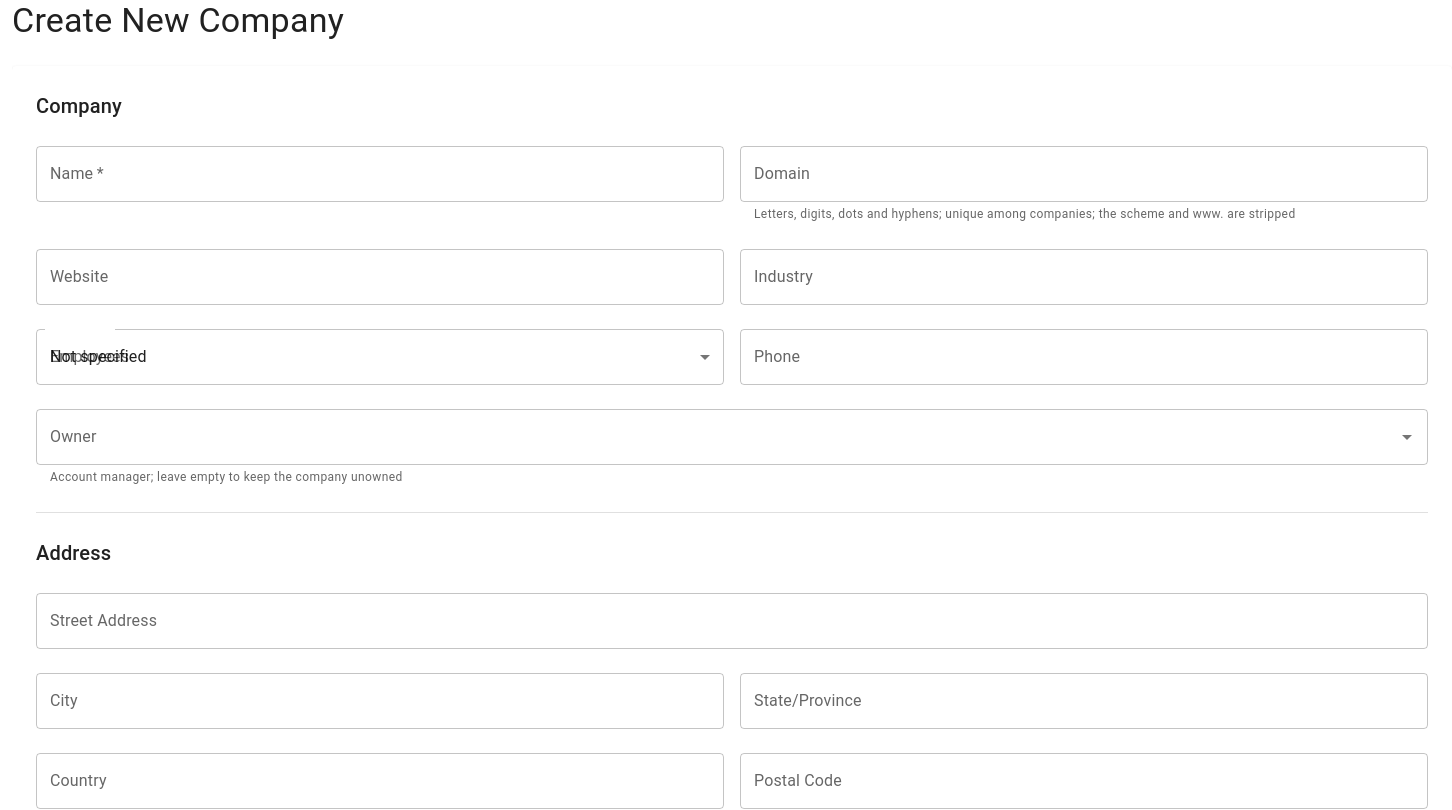
Test: CompanyForm › create mode › shows the server message on the domain field after a 409
Type "Acme Widgets" into the field labelled "Name *" at (380, 174), box [36,146,724,202]
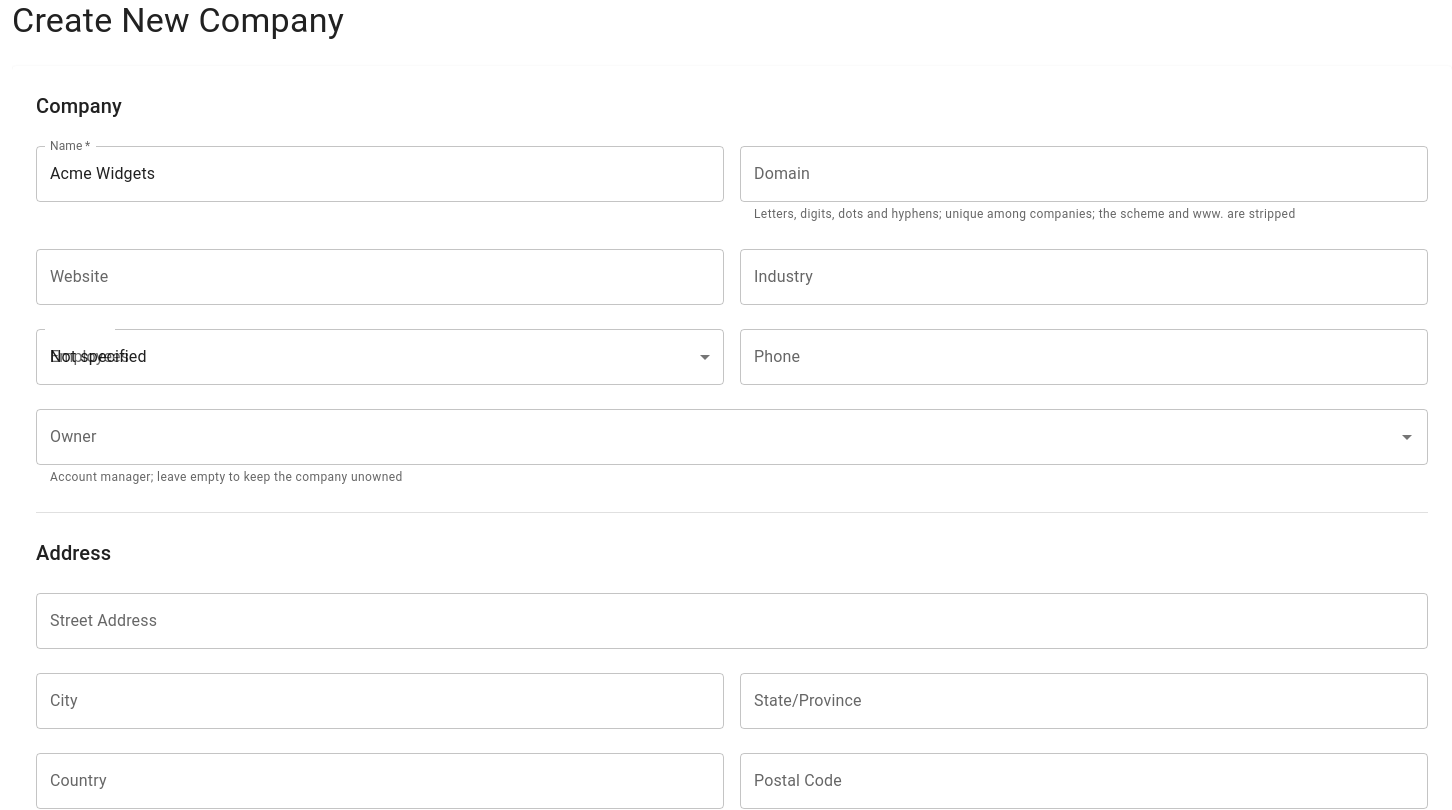
Type "acme.example" into the field labelled "Domain" at (1084, 174), box [740,146,1428,202]
(page scrolled)
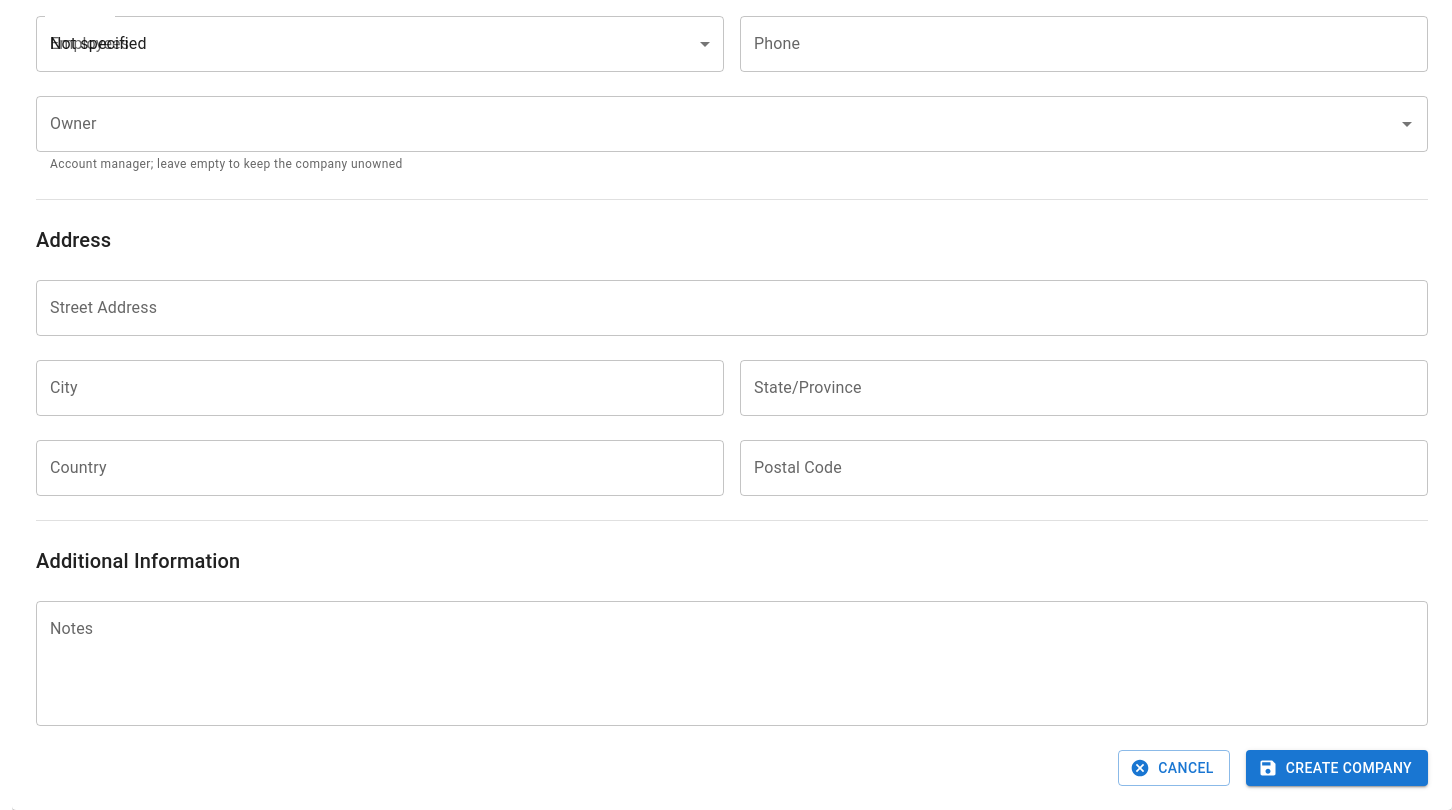
Click the button "Create Company" at (1337, 768), box [1246,750,1428,786]
(page scrolled)
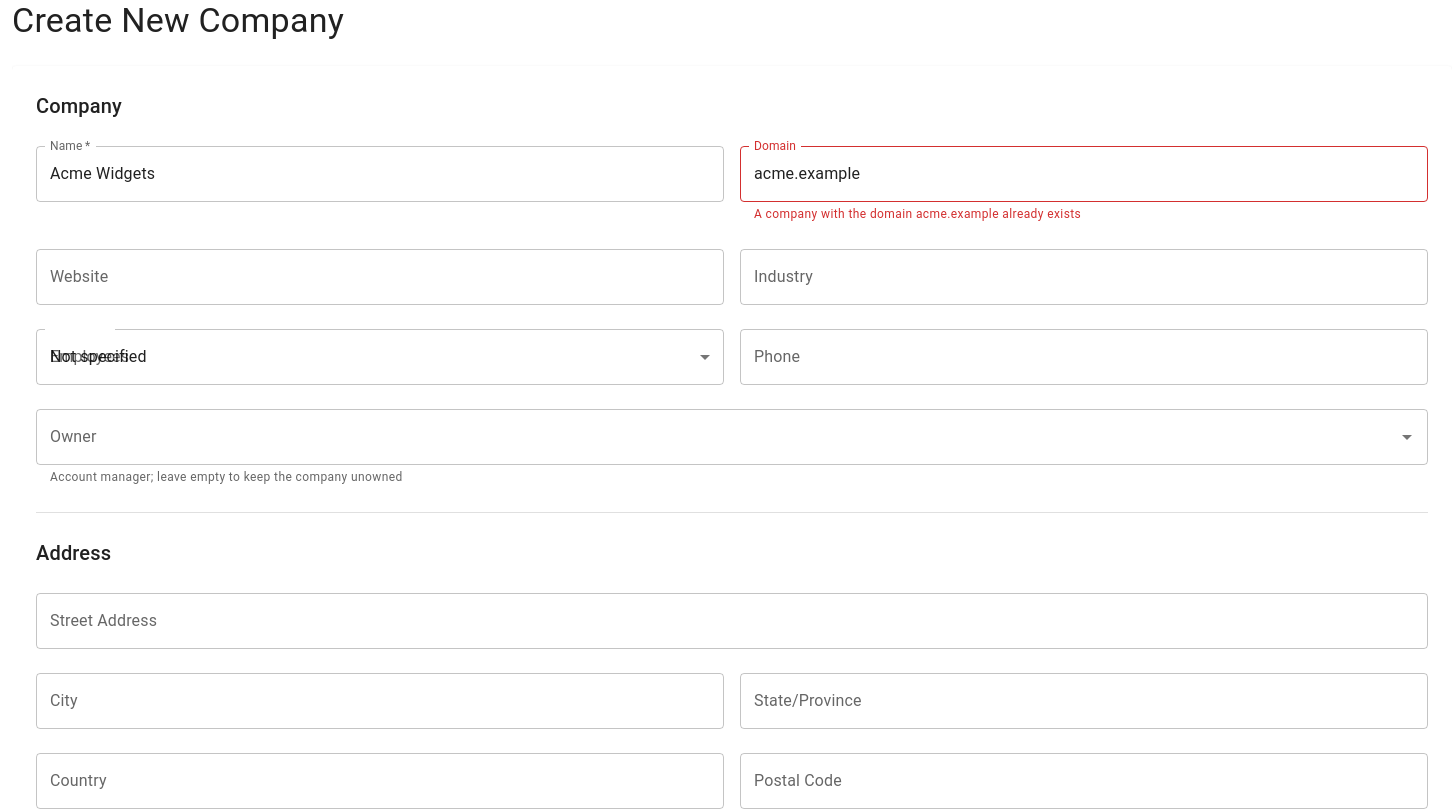
Result: the text "A company with the domain acme.example already exists" is shown at [754,207,1081,221]
